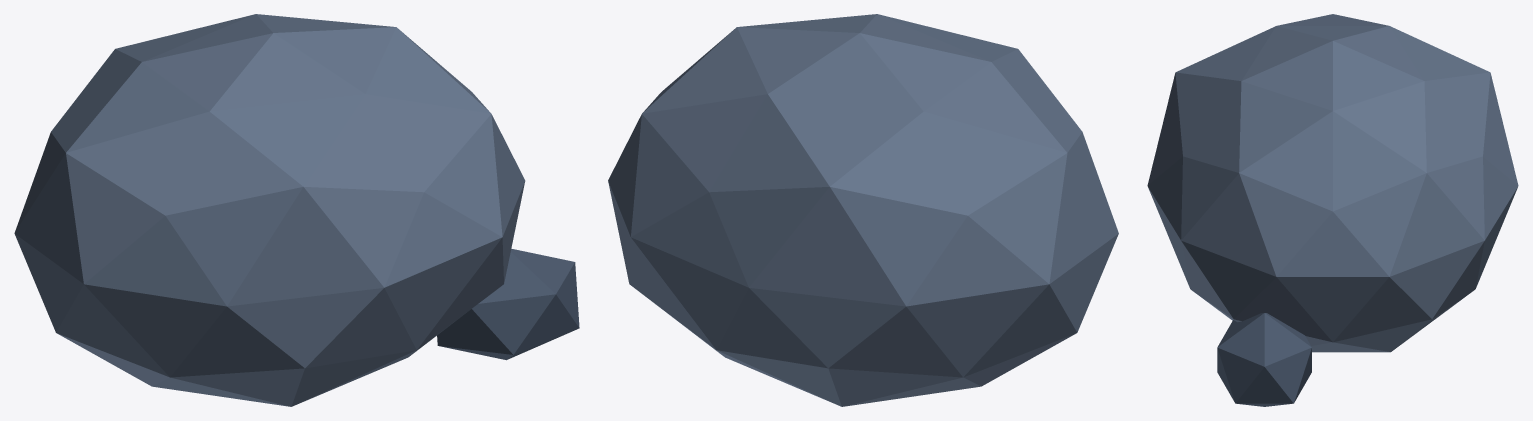
File: stone_boulder.fbx
3 views of the same model, side by side, from view 1: azimuth 30°, elevation 25°; view 2: azimuth 150°, elevation 25°; view 3: azimuth 270°, elevation 25° (orthographic). The views are drawn at different scales.
Parts seen in each view (by area): view 1: Boulder, SideRock; view 2: Boulder; view 3: Boulder, SideRock.
Part boxes in pixels (bbox=[...]): Boulder: bbox=[14, 14, 525, 406]; SideRock: bbox=[437, 248, 579, 360]; Boulder: bbox=[608, 14, 1118, 406]; Boulder: bbox=[1147, 14, 1518, 352]; SideRock: bbox=[1217, 313, 1311, 406].
Bounding box in the file's own units: 2.4 × 1.64 × 1.9.
